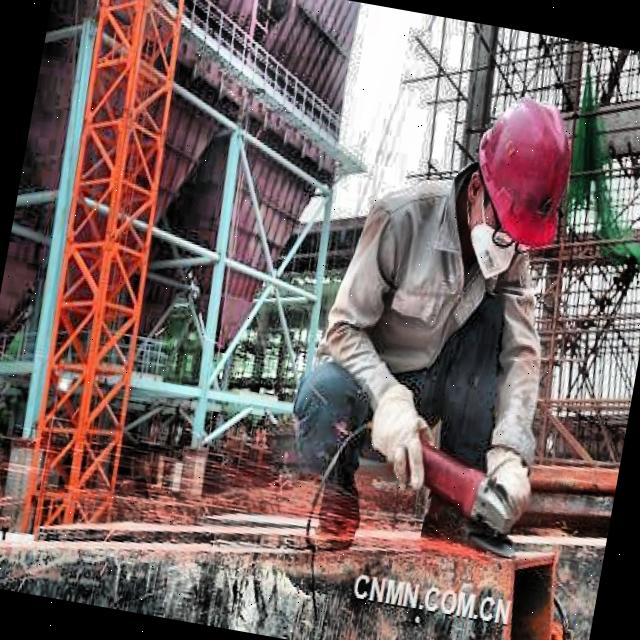helmet: (438, 74, 596, 290)
